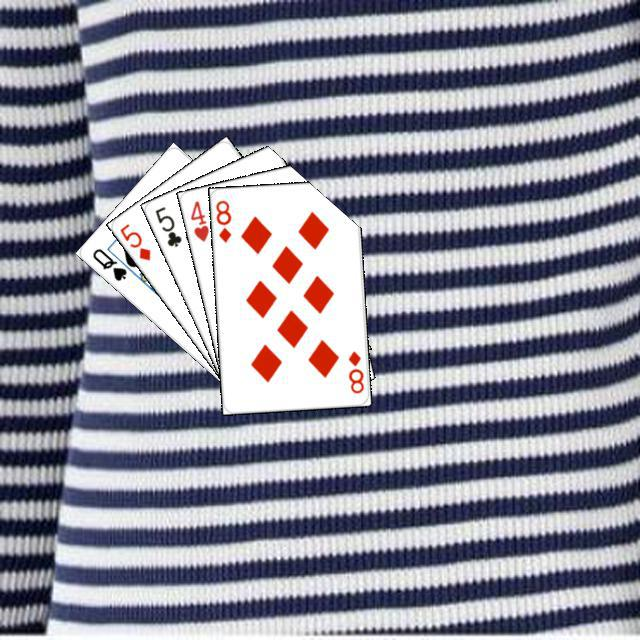4h: (185, 196, 211, 243)
5c: (150, 202, 183, 249)
5d: (115, 219, 152, 262)
8d: (343, 347, 366, 395), (211, 196, 233, 244)
Qs: (87, 243, 129, 283)
